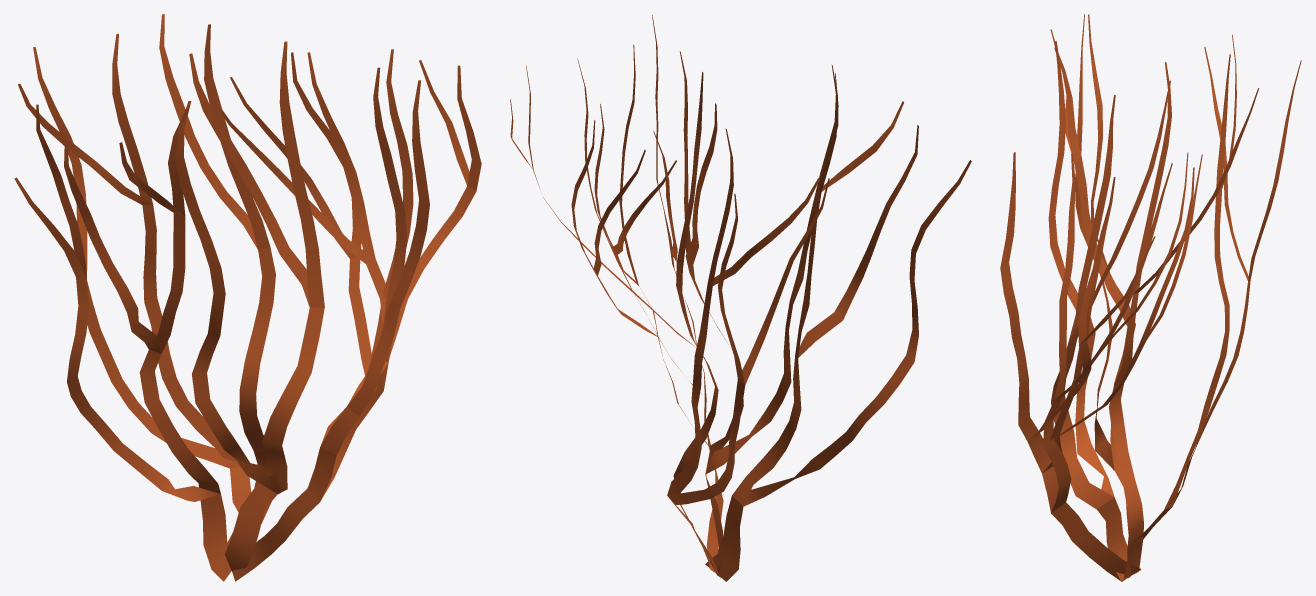
Rendered from coral_seagrass_D_raqam_medium_flat.fbx.
The picture shows the model from 3 angles, left to right: view 1: azimuth 30°, elevation 25°; view 2: azimuth 150°, elevation 25°; view 3: azimuth 270°, elevation 25°; orthographic projection. The views are drawn at different scales.
Visible parts, largest first — view 1: coral_seagrass_D_raqam_medium_flat; view 2: coral_seagrass_D_raqam_medium_flat; view 3: coral_seagrass_D_raqam_medium_flat.
Part boxes in pixels (box(x1,y1,x2,y2)): coral_seagrass_D_raqam_medium_flat: box(14, 14, 481, 581); coral_seagrass_D_raqam_medium_flat: box(510, 15, 971, 581); coral_seagrass_D_raqam_medium_flat: box(1000, 14, 1301, 581).
Size of the model in its own units: 122 by 136 by 71.71.
